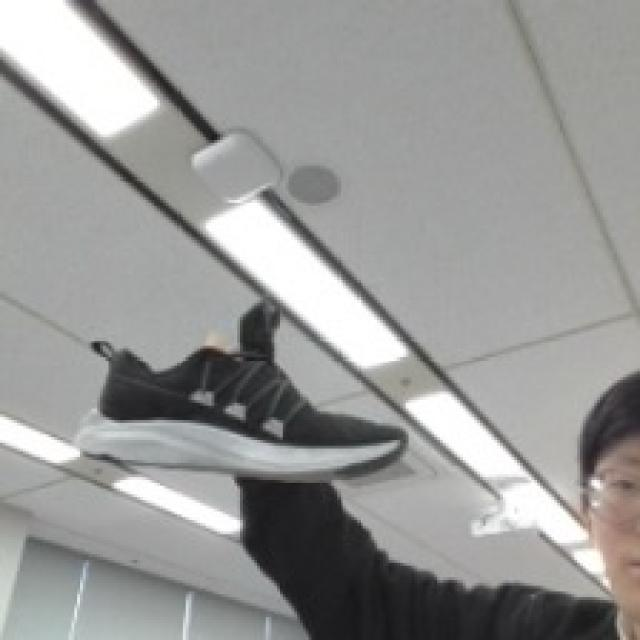shoe: (77, 293, 411, 483)
